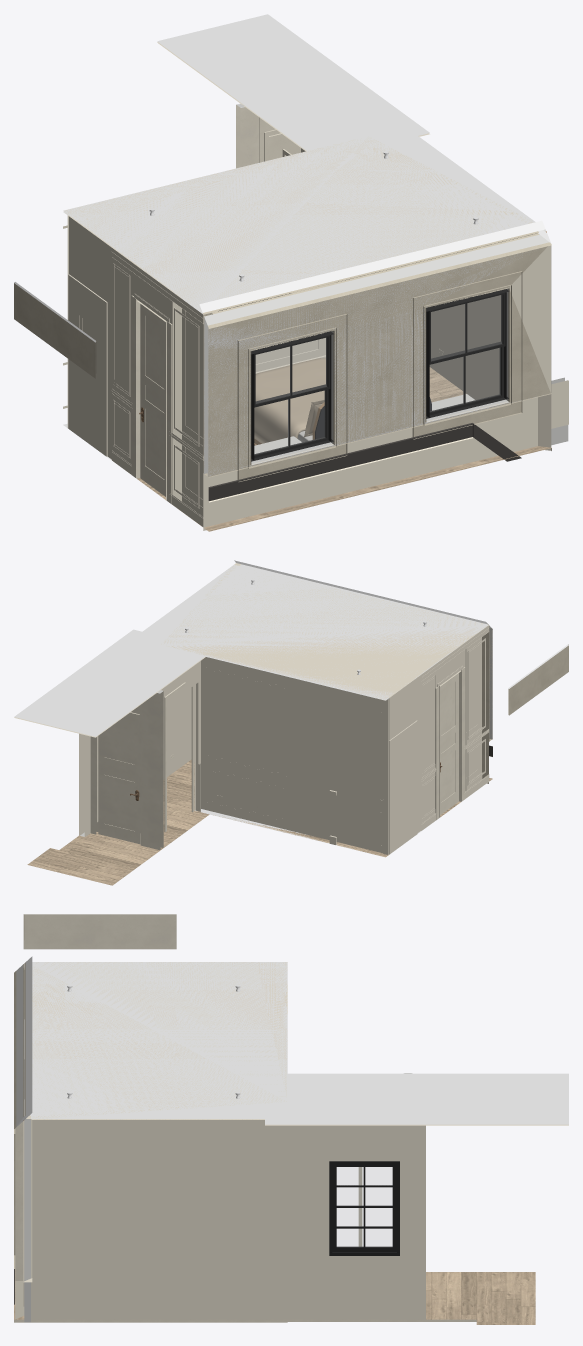
File: blue-bedroom-a8307ddcaacb.glb
The picture shows the model from 3 angles, top to bottom: view 1: azimuth 30°, elevation 25°; view 2: azimuth 150°, elevation 25°; view 3: azimuth 270°, elevation 25°; orthographic projection. The views are drawn at different scales.
Parts seen in each view (by area): view 1: blue-bedroom-9d91b47435c6fb33, blue-bedroom-bddaf205afbd60c0, blue-bedroom-e8793759323e04f0, blue-bedroom-look-9d91b47435c6fb33, blue-bedroom-df3e1f21720b0c39, blue-bedroom-2f7d8eff34a2c180, blue-bedroom-ed5fdcd3ee9c0dd5, blue-bedroom-3c3de67e8dd93323, blue-bedroom-649b3532e9781727, blue-bedroom-64753ebcb3824a84, blue-bedroom-746250f96522f643, blue-bedroom-ead09a0b3f9e3bd9 (+16 smaller); view 2: blue-bedroom-6e269356ae8bfd70, blue-bedroom-9d91b47435c6fb33, blue-bedroom-e8793759323e04f0, blue-bedroom-look-9d91b47435c6fb33, blue-bedroom-ed5fdcd3ee9c0dd5, blue-bedroom-look-2575515a05775d9e, blue-bedroom-look-dcc0092055abeaa8, blue-bedroom-look-eb02897c2e79e2b1, blue-bedroom-ead09a0b3f9e3bd9, blue-bedroom-3e649b0d114ae387, blue-bedroom-bf159a19de53e60e, blue-bedroom-746250f96522f643 (+13 smaller); view 3: blue-bedroom-746250f96522f643, blue-bedroom-9d91b47435c6fb33, blue-bedroom-look-746250f96522f643, blue-bedroom-e8793759323e04f0, blue-bedroom-look-9d91b47435c6fb33, blue-bedroom-look-5035c6783c6505b3, blue-bedroom-look-2575515a05775d9e, blue-bedroom-look-3a4d9d62ecd7be1c, blue-bedroom-0a6e1f8a567f4490, blue-bedroom-64753ebcb3824a84, blue-bedroom-2575515a05775d9e, blue-bedroom-49f6d498b24b79cd.
Part boxes in pixels (bbox=[...]): blue-bedroom-9d91b47435c6fb33: bbox=[63, 127, 538, 314]; blue-bedroom-bddaf205afbd60c0: bbox=[207, 242, 550, 476]; blue-bedroom-e8793759323e04f0: bbox=[64, 138, 545, 312]; blue-bedroom-look-9d91b47435c6fb33: bbox=[157, 14, 429, 151]; blue-bedroom-df3e1f21720b0c39: bbox=[208, 243, 551, 475]; blue-bedroom-2f7d8eff34a2c180: bbox=[203, 393, 551, 530]; blue-bedroom-ed5fdcd3ee9c0dd5: bbox=[67, 215, 181, 500]; blue-bedroom-3c3de67e8dd93323: bbox=[251, 330, 333, 461]; blue-bedroom-649b3532e9781727: bbox=[426, 289, 509, 418]; blue-bedroom-64753ebcb3824a84: bbox=[204, 234, 548, 476]; blue-bedroom-746250f96522f643: bbox=[398, 234, 532, 399]; blue-bedroom-ead09a0b3f9e3bd9: bbox=[68, 274, 107, 456]; blue-bedroom-6e269356ae8bfd70: bbox=[200, 656, 389, 855]; blue-bedroom-9d91b47435c6fb33: bbox=[134, 564, 488, 700]; blue-bedroom-e8793759323e04f0: bbox=[161, 560, 488, 698]; blue-bedroom-look-9d91b47435c6fb33: bbox=[14, 629, 205, 737]; blue-bedroom-ed5fdcd3ee9c0dd5: bbox=[382, 641, 465, 854]; blue-bedroom-look-2575515a05775d9e: bbox=[27, 803, 209, 885]; blue-bedroom-look-dcc0092055abeaa8: bbox=[98, 712, 140, 844]; blue-bedroom-look-eb02897c2e79e2b1: bbox=[90, 690, 163, 850]; blue-bedroom-ead09a0b3f9e3bd9: bbox=[389, 720, 417, 854]; blue-bedroom-3e649b0d114ae387: bbox=[465, 625, 488, 790]; blue-bedroom-bf159a19de53e60e: bbox=[440, 673, 458, 814]; blue-bedroom-746250f96522f643: bbox=[161, 672, 191, 779]; blue-bedroom-746250f96522f643: bbox=[32, 1119, 287, 1319]; blue-bedroom-9d91b47435c6fb33: bbox=[24, 962, 287, 1119]; blue-bedroom-look-746250f96522f643: bbox=[287, 1125, 425, 1319]; blue-bedroom-e8793759323e04f0: bbox=[25, 956, 287, 1118]; blue-bedroom-look-9d91b47435c6fb33: bbox=[265, 1073, 568, 1125]; blue-bedroom-look-5035c6783c6505b3: bbox=[329, 1161, 399, 1255]; blue-bedroom-look-2575515a05775d9e: bbox=[287, 1272, 535, 1324]; blue-bedroom-look-3a4d9d62ecd7be1c: bbox=[23, 914, 176, 949]; blue-bedroom-0a6e1f8a567f4490: bbox=[15, 1121, 22, 1281]; blue-bedroom-64753ebcb3824a84: bbox=[16, 964, 23, 1126]; blue-bedroom-2575515a05775d9e: bbox=[14, 1269, 287, 1322]; blue-bedroom-49f6d498b24b79cd: bbox=[24, 1118, 30, 1281].
Size of the model in its own units: 6.73 by 3.04 by 7.3.
Materials: 35 (5 with a texture image).
